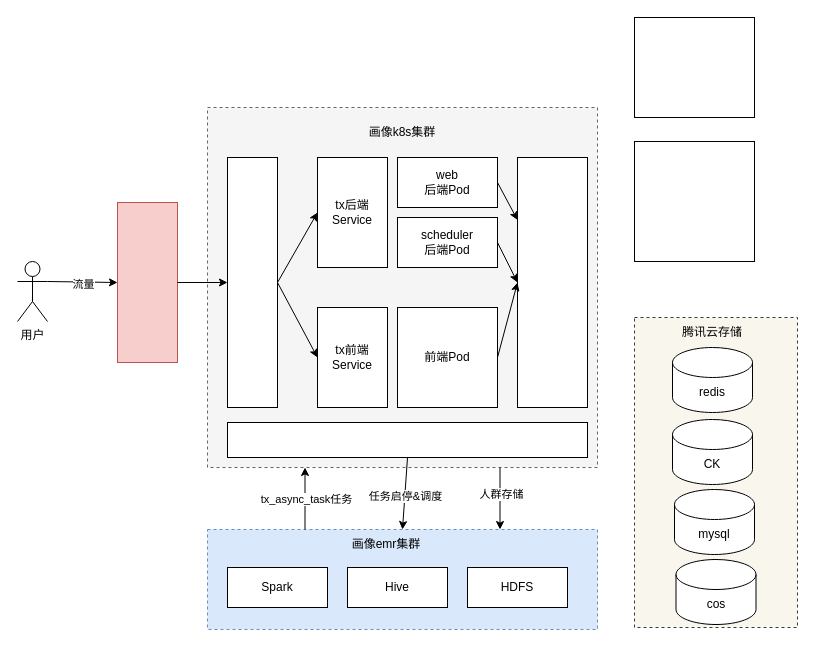
The diagram is 815 pixels wide and 647 high, and some of its shapes have lost their labels. Here are the shapes that lost their labels. From the top down, the centre of each, then its label:
At [694,67]: "监控 （Promethus）".
At [694,201]: "日志 （Cls）".
At [147,282]: "CLB (域名转发)".
At [252,282]: "ingress (反向代理)".
At [552,282]: "配置 ConfigMap".
At [407,440]: "cronjob".
